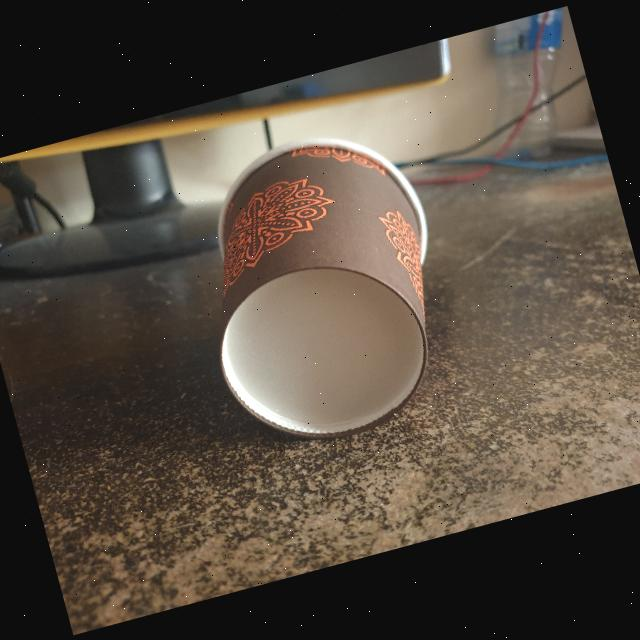trash: (160, 106, 486, 470)
